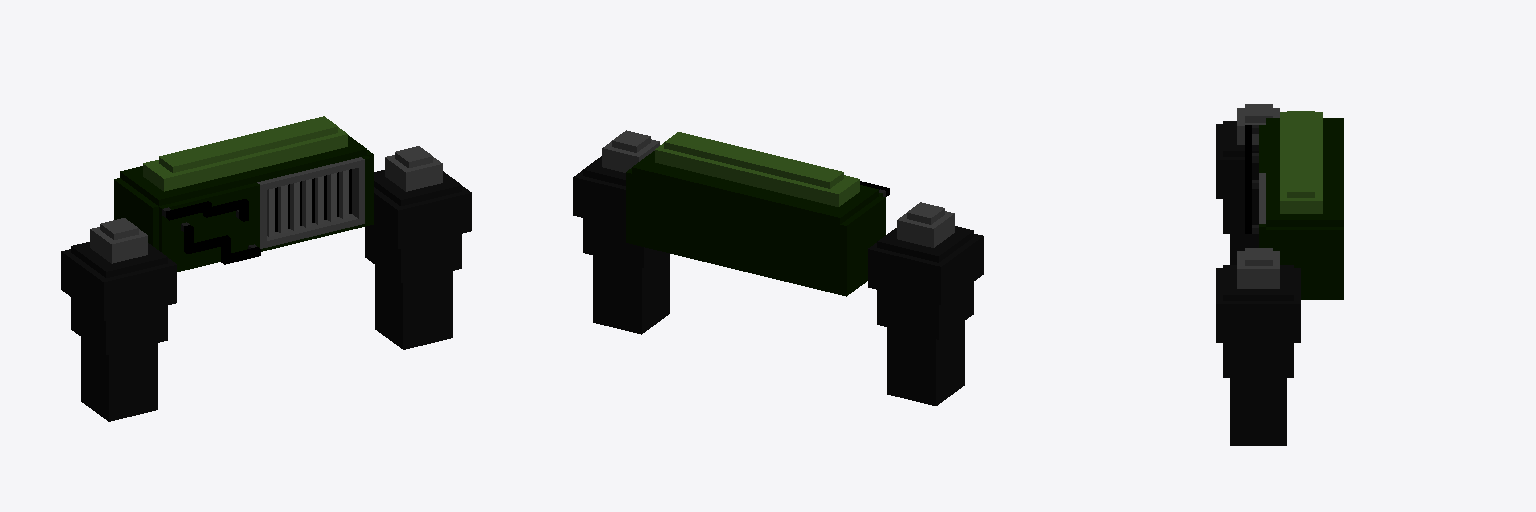
The picture shows the model from 3 angles: view 1: azimuth 30°, elevation 25°; view 2: azimuth 150°, elevation 25°; view 3: azimuth 270°, elevation 25°; orthographic projection.
Parts seen in each view (by area): view 1: object 1; view 2: object 1; view 3: object 1.
Boxes of the visible parts, box(x1,y1,x2,y2) form: object 1: box(61, 116, 471, 421); object 1: box(573, 130, 983, 405); object 1: box(1216, 104, 1343, 445).
Bounding box in the file's own units: 6 × 3.3 × 1.8.
Materials: 1 (1 with a texture image).